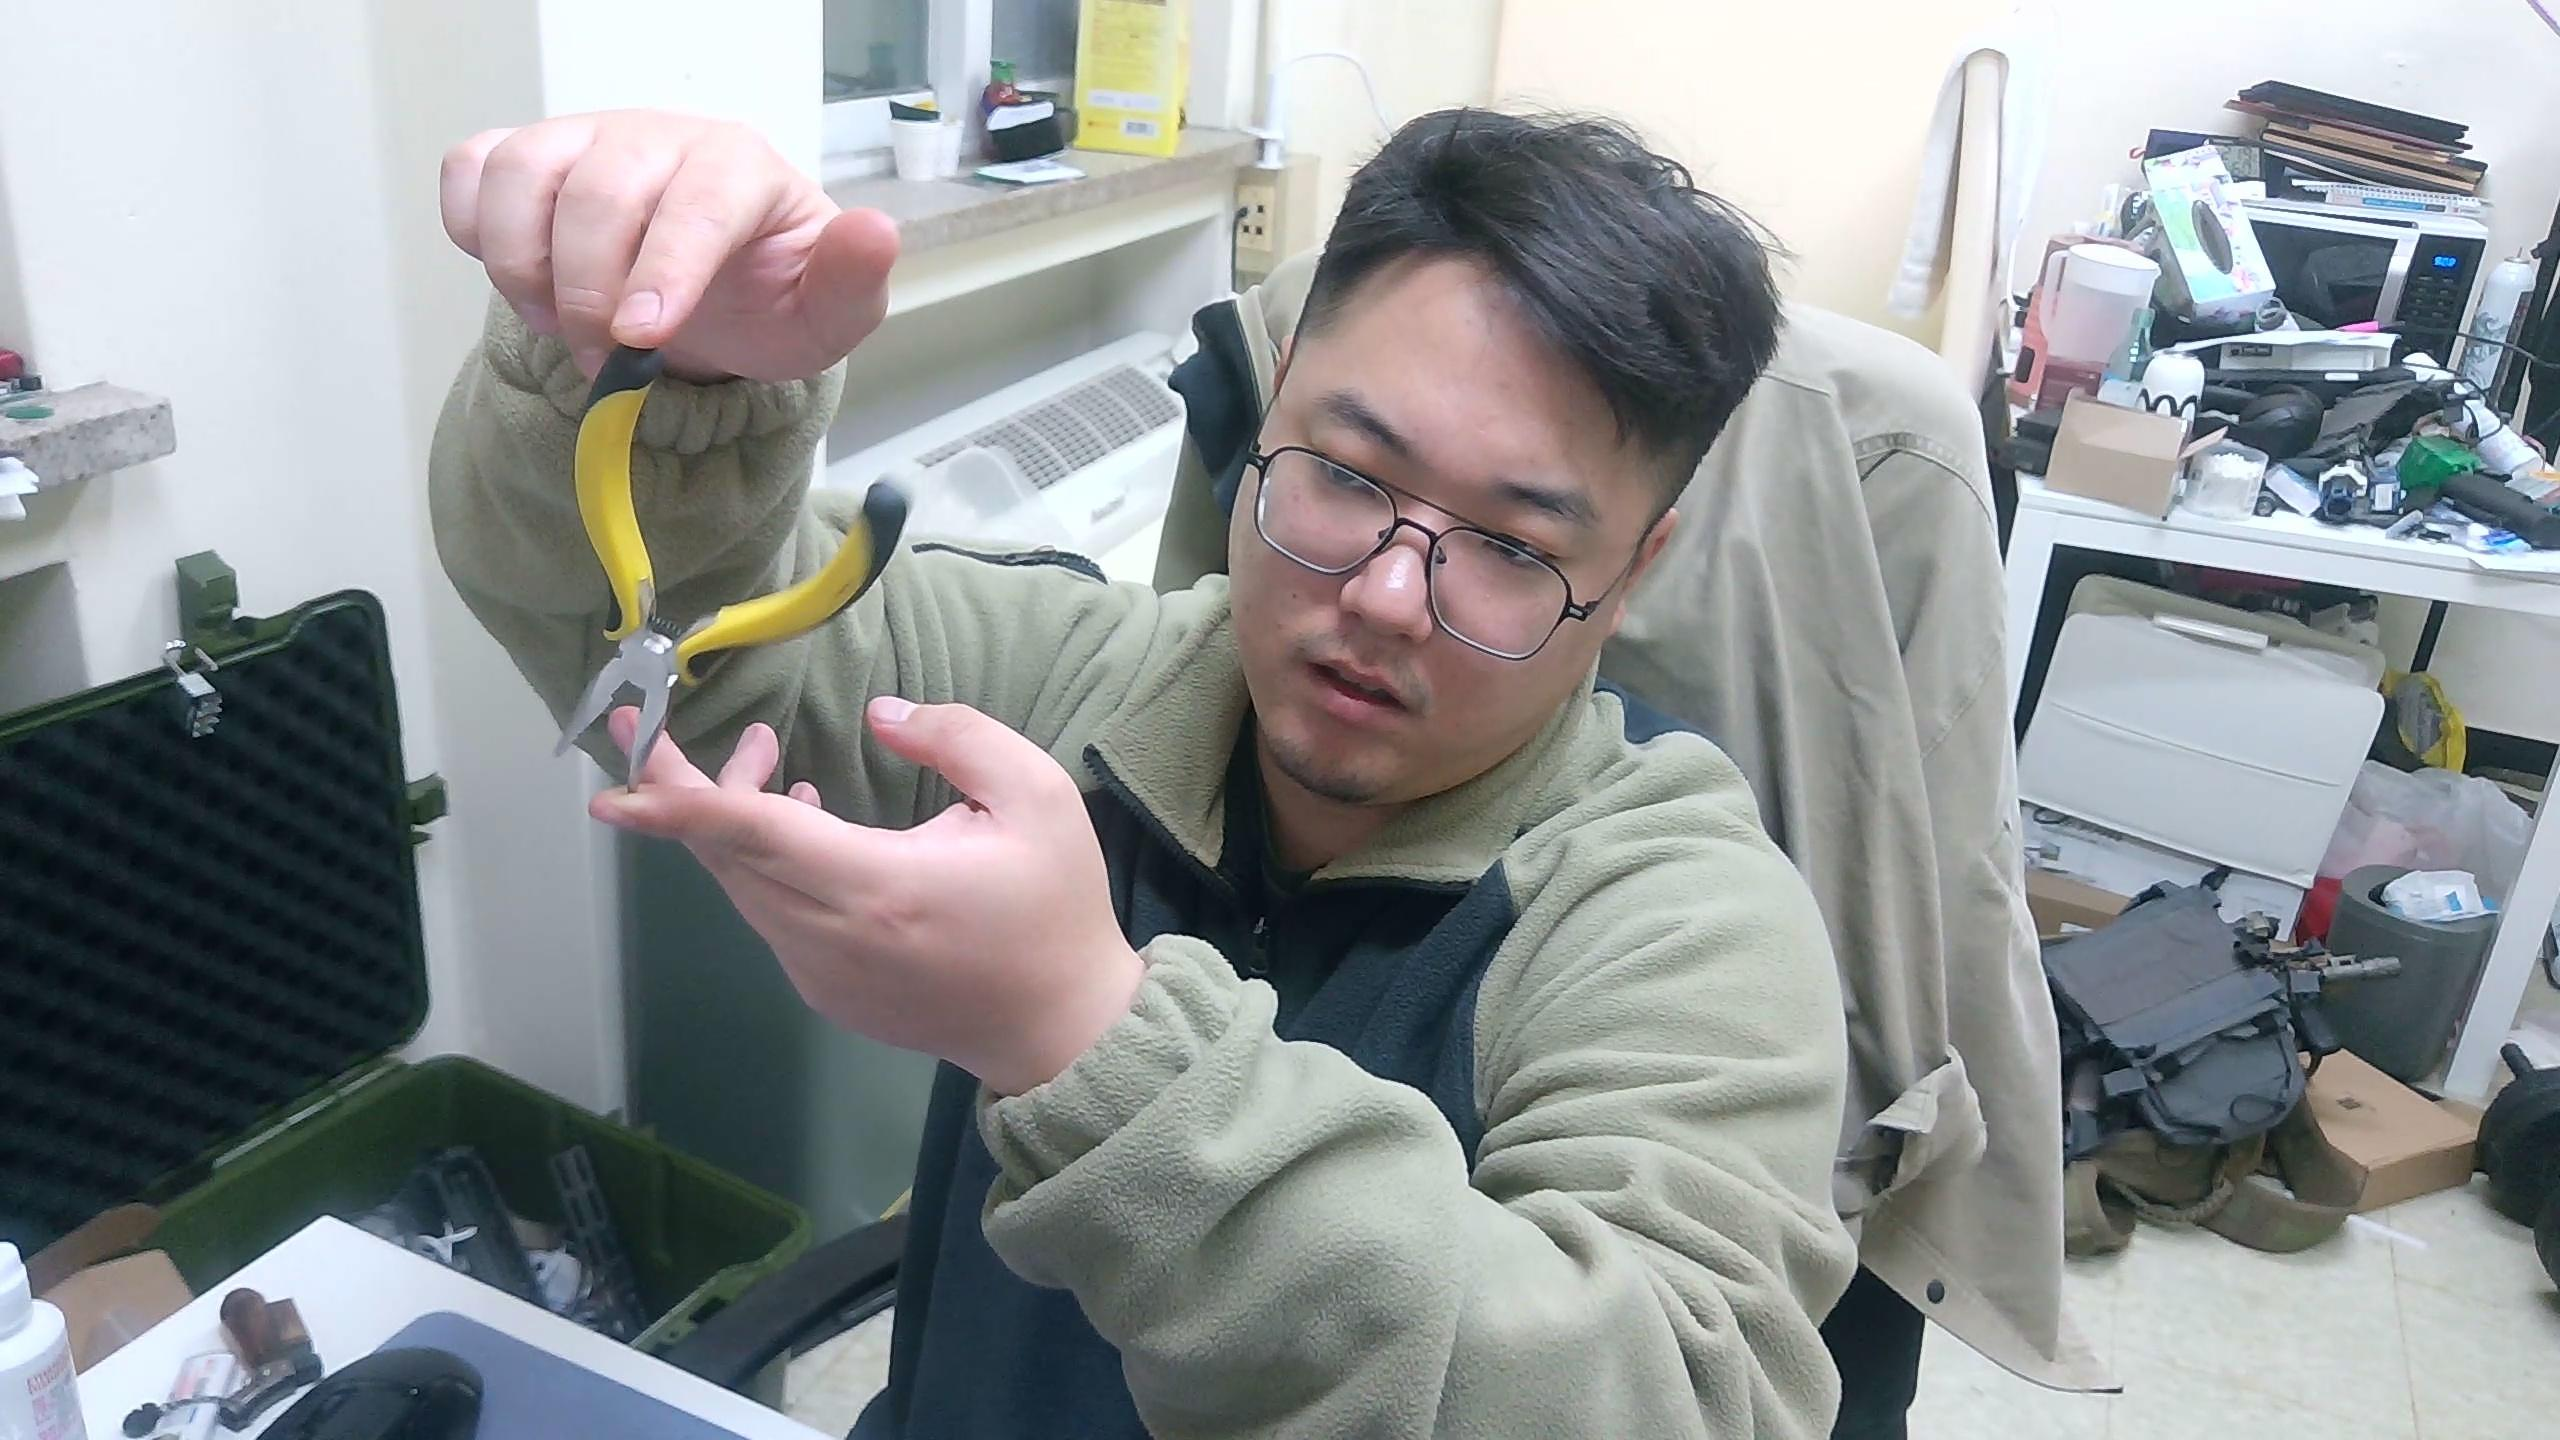earphone: (564, 338, 916, 793)
